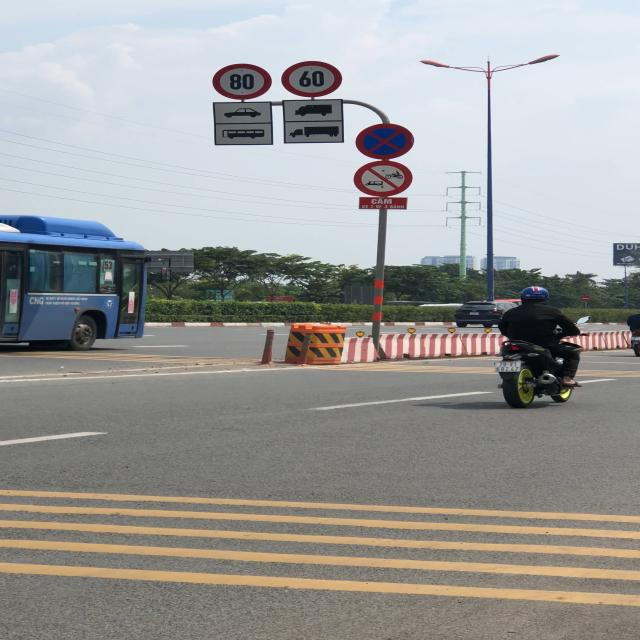Bien bao cam dung xe va do xe: (353, 123, 415, 159)
Bien bao toc do toi da cho phep: (210, 62, 275, 101), (280, 60, 343, 99)
